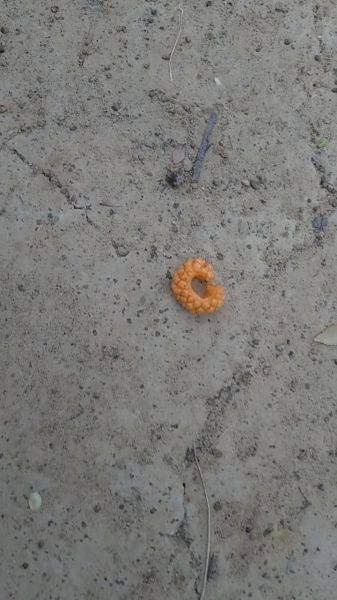eggs: (164, 246, 238, 321)
